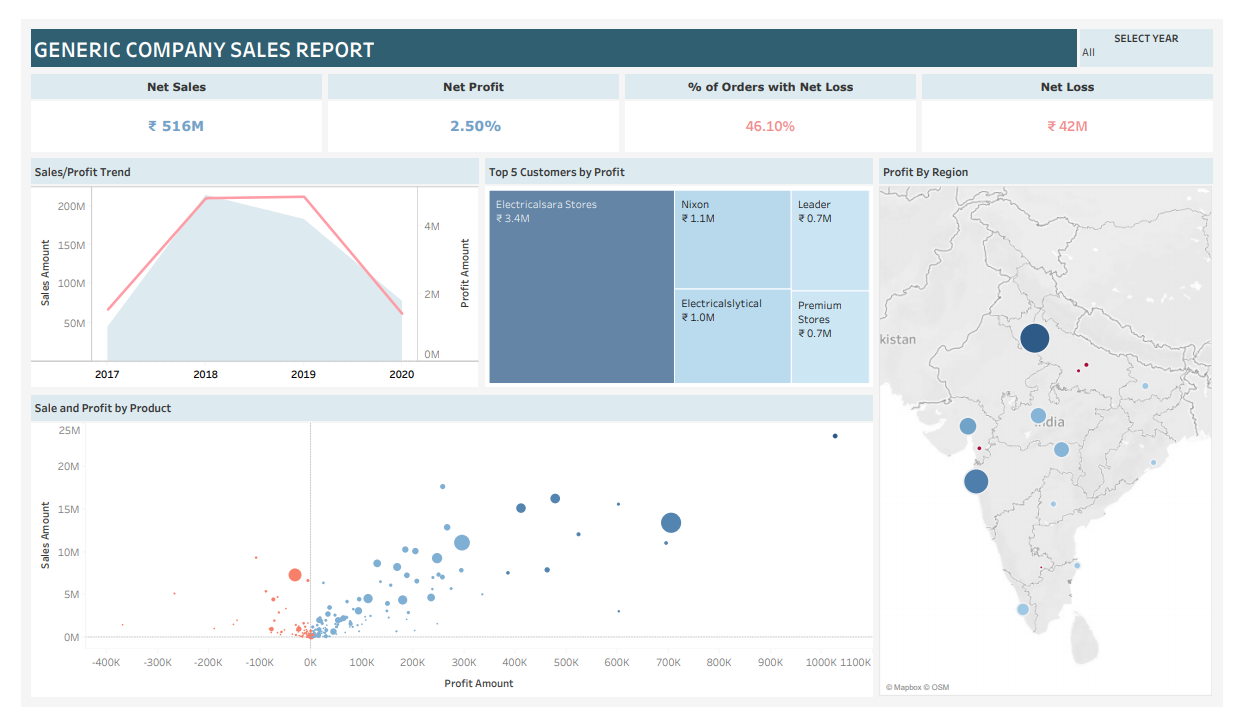

What the dashboard file says about the page in this screenshot:
{"tool":"tableau","page":{"name":"Sales Report","canvas":[1400,800],"ordinal":0},"visuals":[{"type":"title","box":[8,8,1222,52]},{"type":"filter","title":"R1_SA","param":"[federated.1bf4cuz1pndp3n18gr6rr0eq9xto].[yr:order_date:ok]","box":[1230,8,162,52]},{"type":"worksheet","title":"R1_SA","mark":"Automatic","box":[8,60,346,98]},{"type":"worksheet","title":"R1_GP","mark":"Automatic","box":[354,60,346,98]},{"type":"worksheet","title":"R1_LP","mark":"Automatic","box":[700,60,346,98]},{"type":"worksheet","title":"R1_NL","mark":"Automatic","box":[1046,60,346,98]},{"type":"worksheet","title":"R2_Trend","mark":"Line","rows":["Calculation_1214283114840535040","profit_margin"],"cols":["order_date"],"box":[8,158.4,529,275]},{"type":"worksheet","title":"R3_C5","mark":"Automatic","box":[537,158.4,459,275]},{"type":"worksheet","title":"R2_Map","mark":"Automatic","box":[996,158.4,396,633.6]},{"type":"worksheet","title":"Scatter","mark":"Automatic","rows":["Calculation_1214283114840535040"],"cols":["profit_margin"],"box":[8,433.4,988,358.6]}]}

Visuals, with their boxes in screenshot pixels (x1, y1, x2, y2), scaled from the page's 1400x800 canvas onto the 1243x727 screenshot:
title: 7 7 1092 55
"R1_SA" filter: 1092 7 1236 55
"R1_SA" worksheet: 7 55 314 144
"R1_GP" worksheet: 314 55 622 144
"R1_LP" worksheet: 622 55 929 144
"R1_NL" worksheet: 929 55 1236 144
"R2_Trend" worksheet (Line marks): 7 144 477 394
"R3_C5" worksheet: 477 144 884 394
"R2_Map" worksheet: 884 144 1236 720
"Scatter" worksheet: 7 394 884 720
